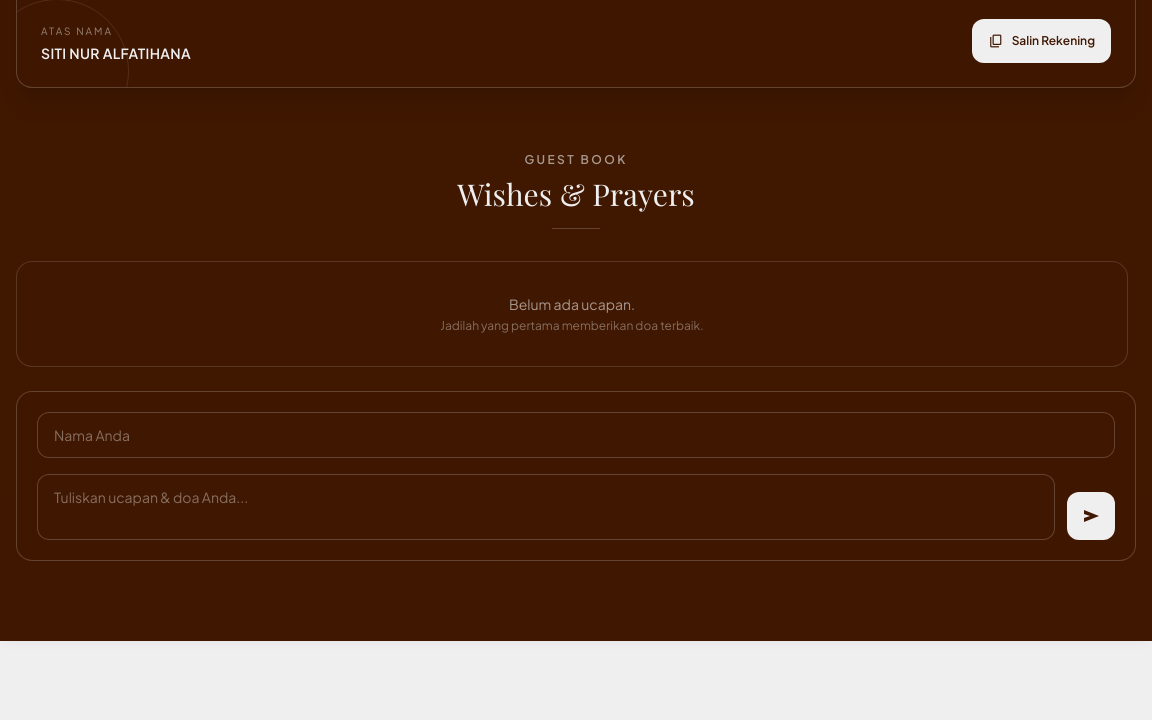
Wishes form security and reliability › shows an error and unlocks the button after a failed request
The image size is (1152, 720).
(page scrolled)
In the field with placeholder "Nama Anda": point(576, 435) top-left (37, 412), bottom-right (1115, 458), type "Budi"
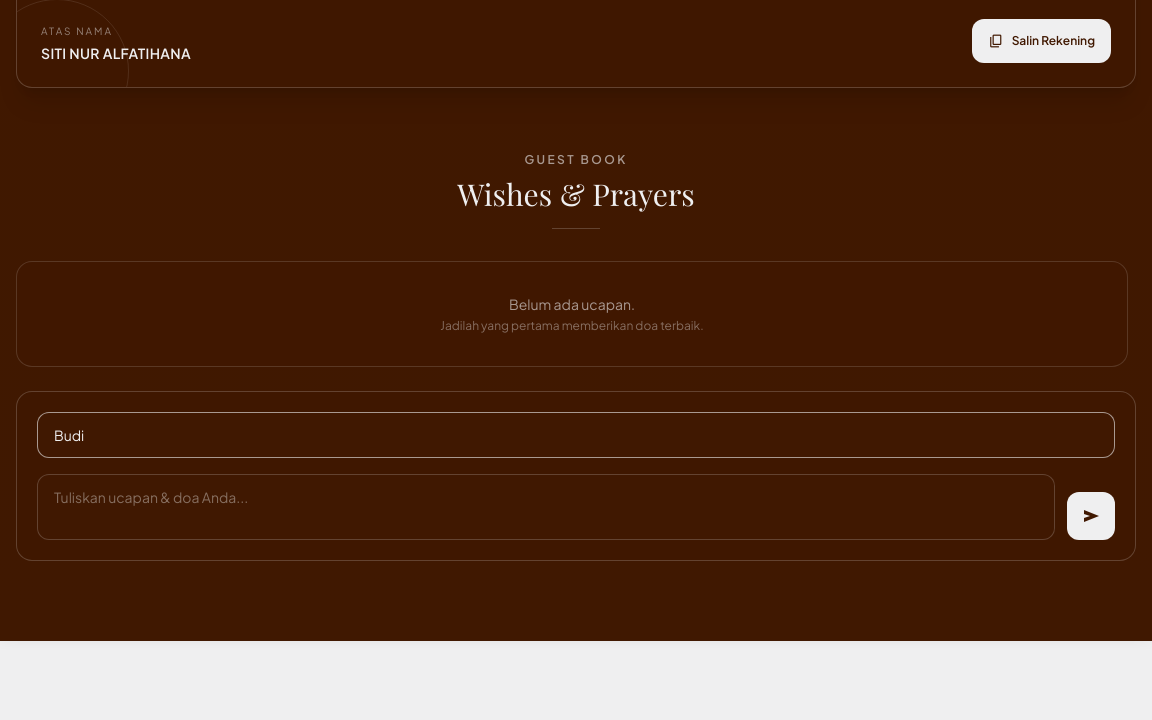
In the text box with placeholder "Tuliskan ucapan & doa Anda...": point(546, 507) top-left (37, 474), bottom-right (1055, 540), type "Semoga bahagia"
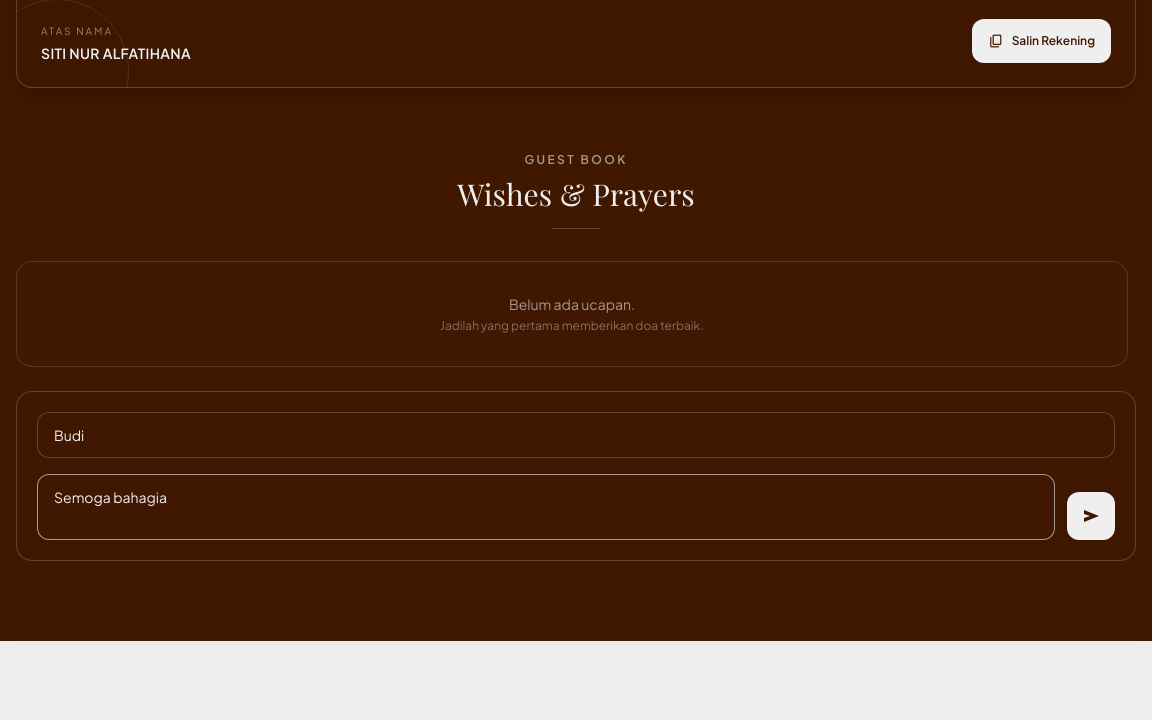
Click the button named "Kirim ucapan": point(1091, 516) top-left (1067, 492), bottom-right (1115, 540)
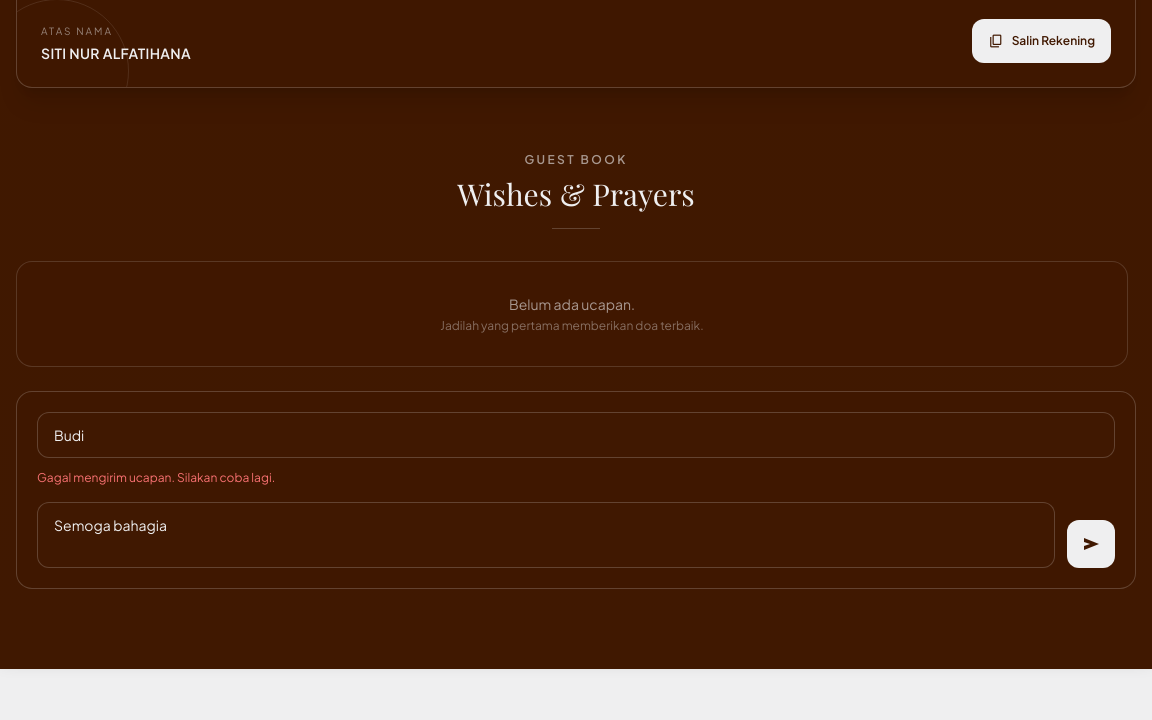
Expected: the button named "Kirim ucapan" is enabled, top-left (1067, 520), bottom-right (1115, 568)
Now the text "Gagal mengirim ucapan. Silakan coba lagi." is shown, box top-left (37, 470), bottom-right (275, 485)
